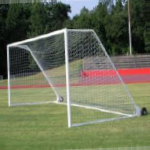goals: (6, 27, 136, 127)
